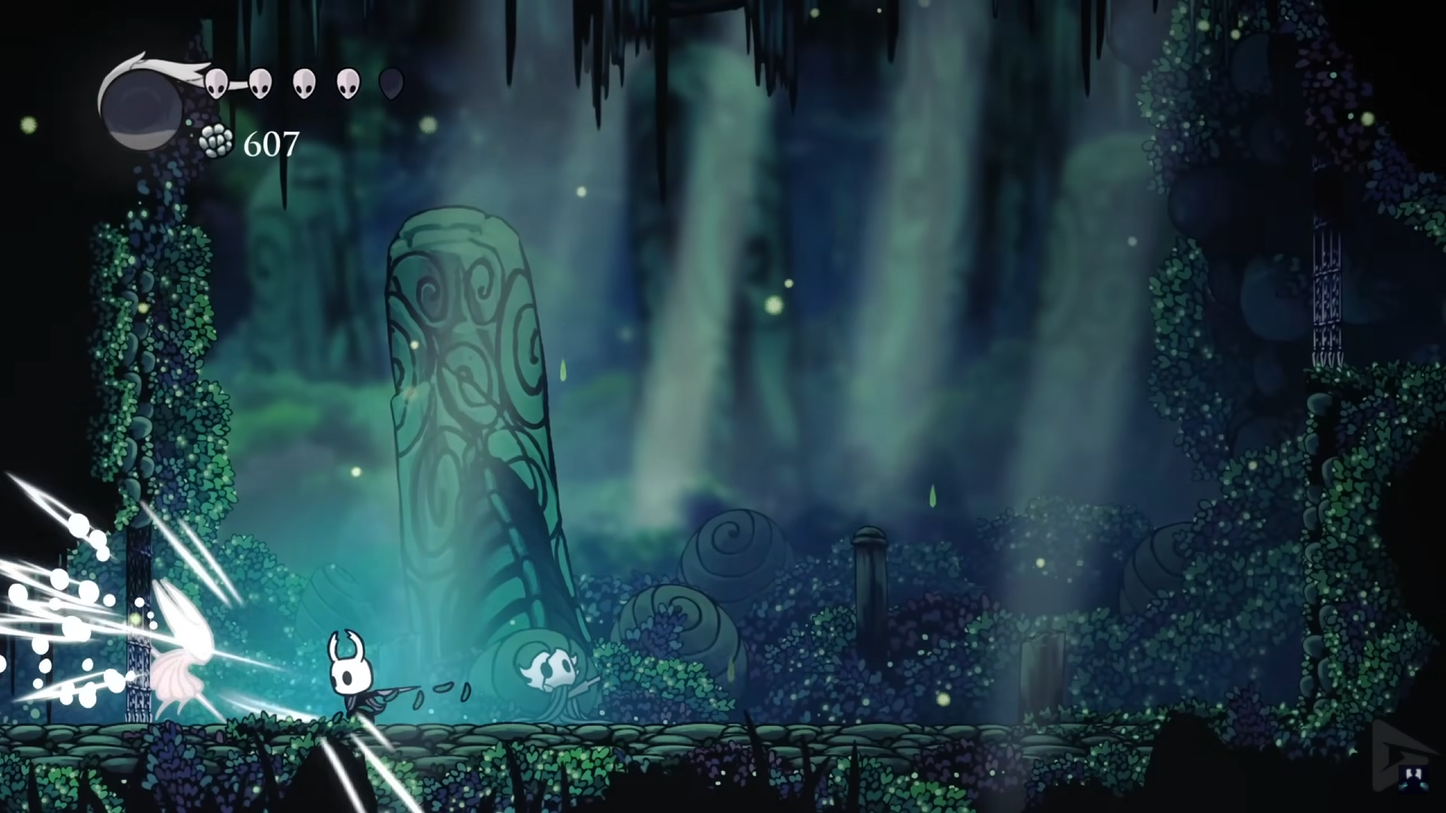HK: (322, 627, 386, 726)
